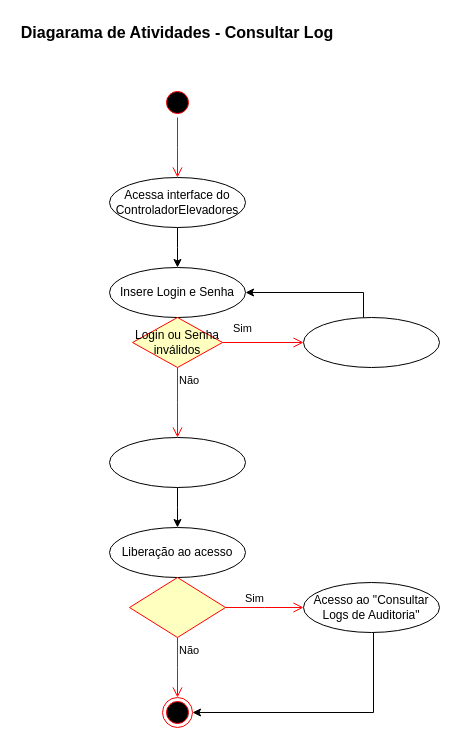
Image size: 457x745. Some labels were removed from this diagram. Here are the shapes that lost their labels. From the top down, the centre of each, then its label:
At point (371, 342): "Mensagem dizendo que login ou senha estão inválidos".
At point (177, 462): "Registro da data/hora em que o login foi feito".
At point (177, 607): "É Administrador".
